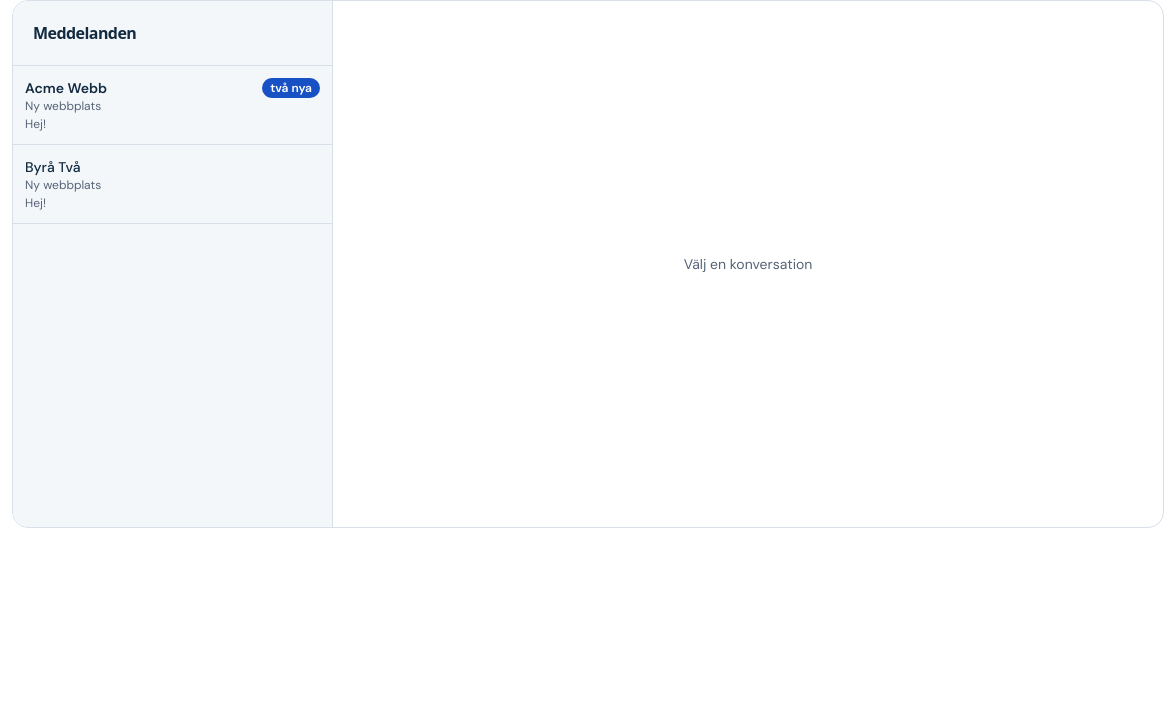
Test: chat › opens a conversation, marks it read and sends with Enter
Click the text "Acme Webb". click: (66, 88)
box: [25,78,107,98]
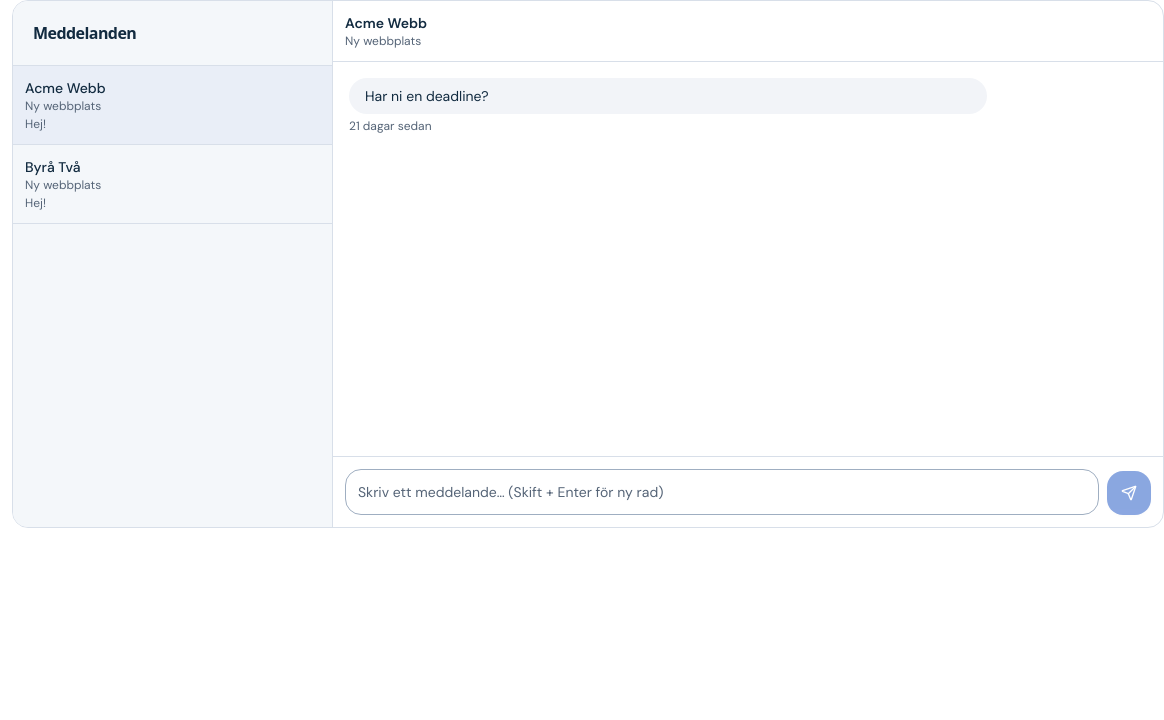
Expected: the text "Har ni en deadline?" is shown, [349,78,987,114]
Type "Ja, i december." into the text box named "Ditt meddelande". click: (722, 492)
box: [345,469,1099,515]
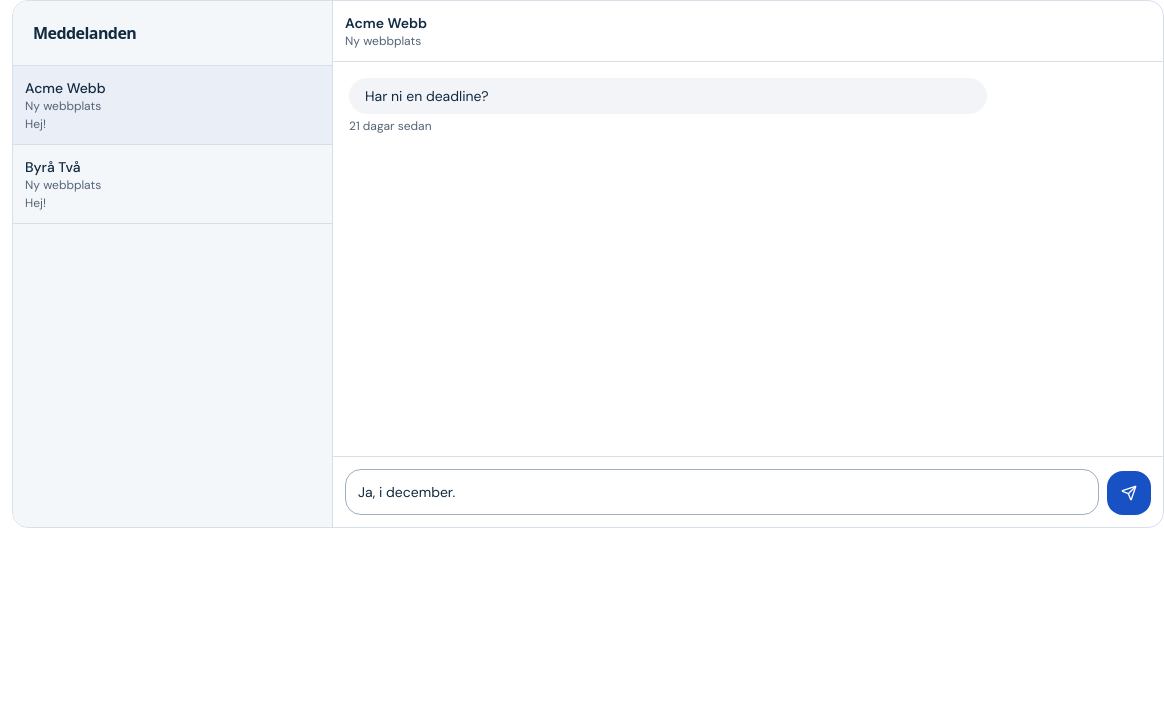
Press Enter in the text box named "Ditt meddelande", box [345,469,1099,515]
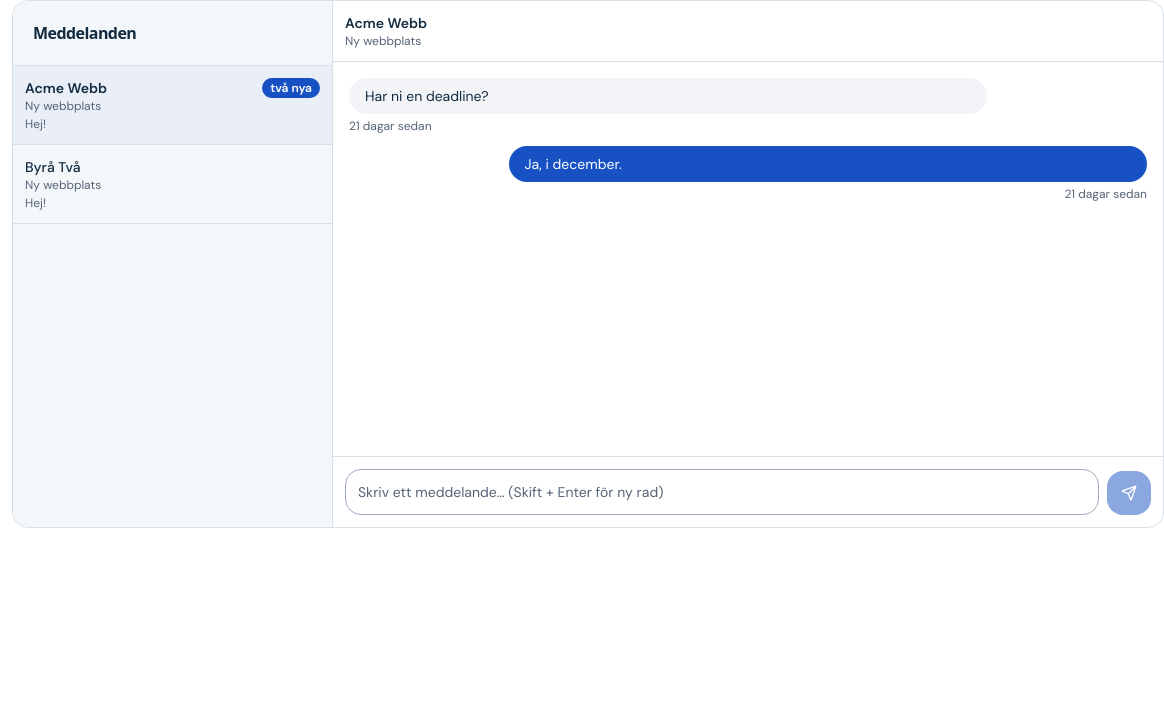
Expected: the text box named "Ditt meddelande" is empty, [345,469,1099,515]
